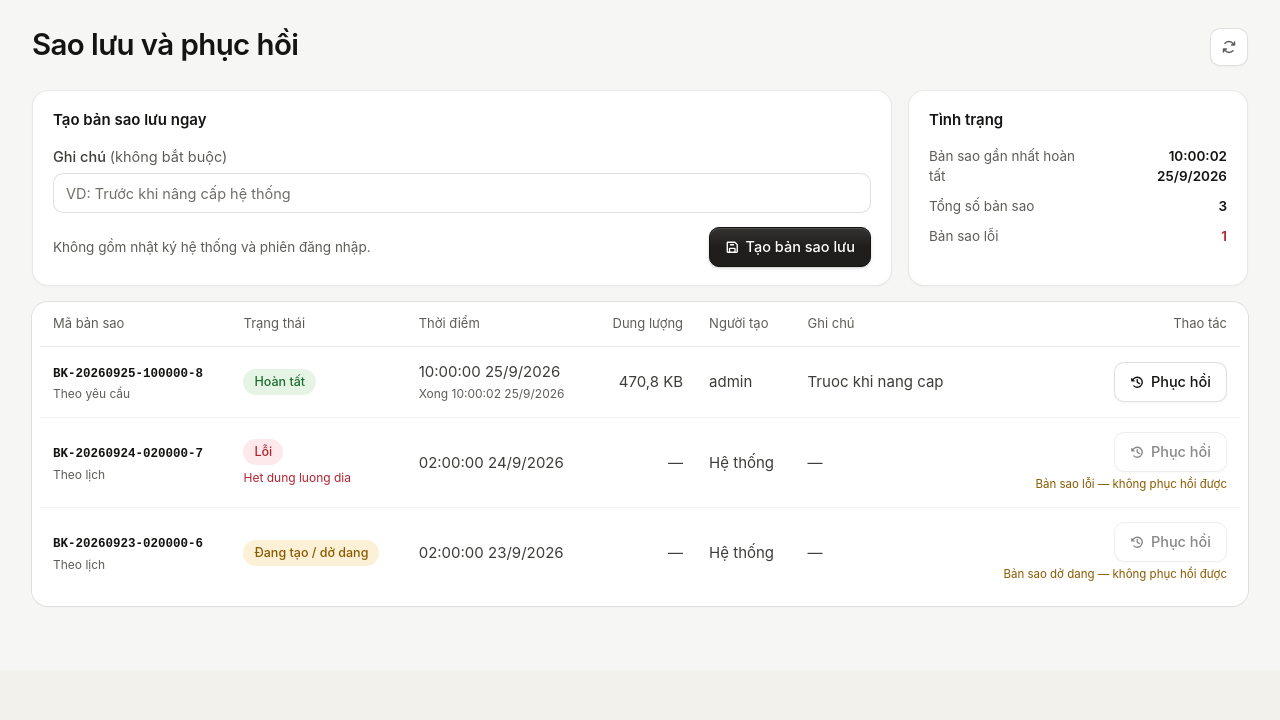
BackupRestorePage (NCL-15-CN-003) › TC-02: bản sao lỗi hoặc dở dang không phục hồi được — nút khóa và hiện lý do
Expected: the row with test id "backup-row-8" is shown, [40,346,1240,418]
Expected: the button with test id "backup-restore-8" is enabled, [1114,362,1227,402]
Click the button with test id "backup-toggle-7": (128, 455) [53,445,203,464]
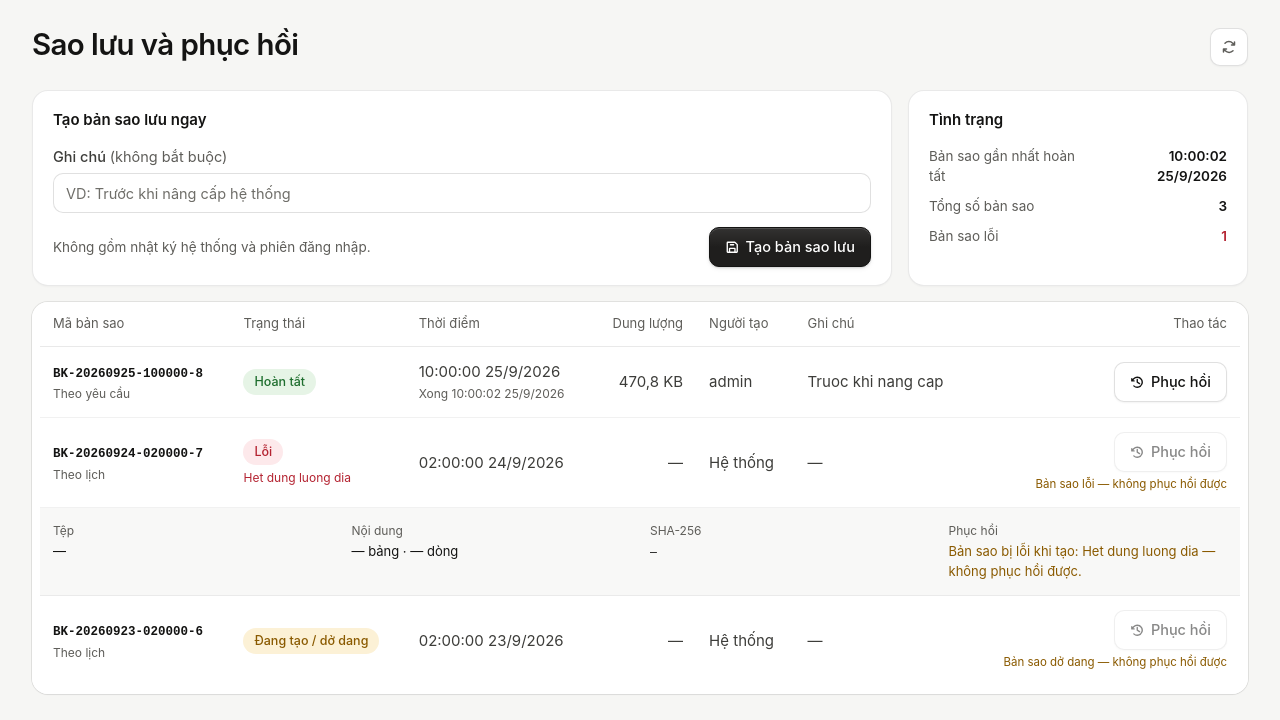
Now the row with test id "backup-detail-7" shows "bị lỗi khi tạo: Het dung luong dia", box [948,543,1215,579]
